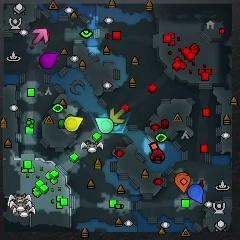p1: (188, 184, 205, 203)
p2: (96, 118, 113, 134)
p3: (40, 52, 59, 70)
p4: (65, 115, 83, 131)
p5: (175, 172, 192, 192)
x1: (33, 27, 49, 44)
x2: (109, 108, 126, 124)
